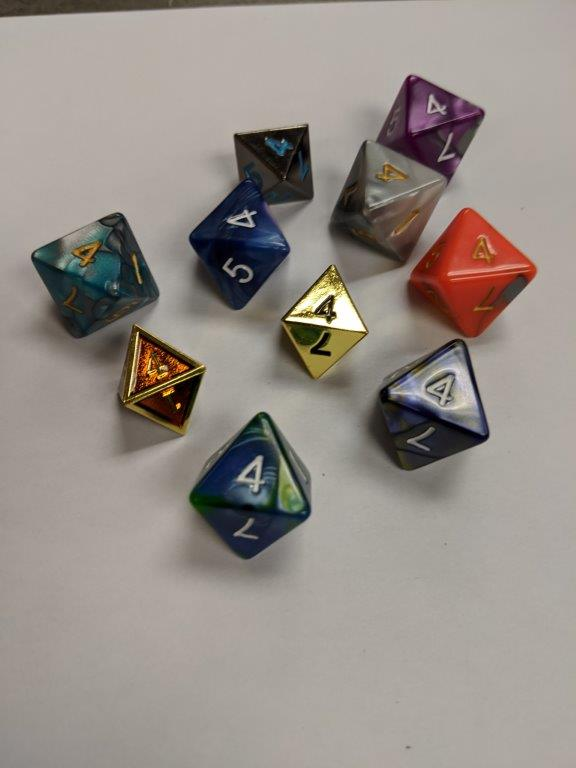d8-4: (189, 410, 316, 567), (406, 208, 539, 339), (383, 332, 495, 481), (29, 214, 156, 336), (328, 137, 441, 264), (188, 181, 292, 309), (376, 67, 481, 185), (113, 323, 207, 438), (283, 262, 370, 384), (227, 119, 318, 206)
